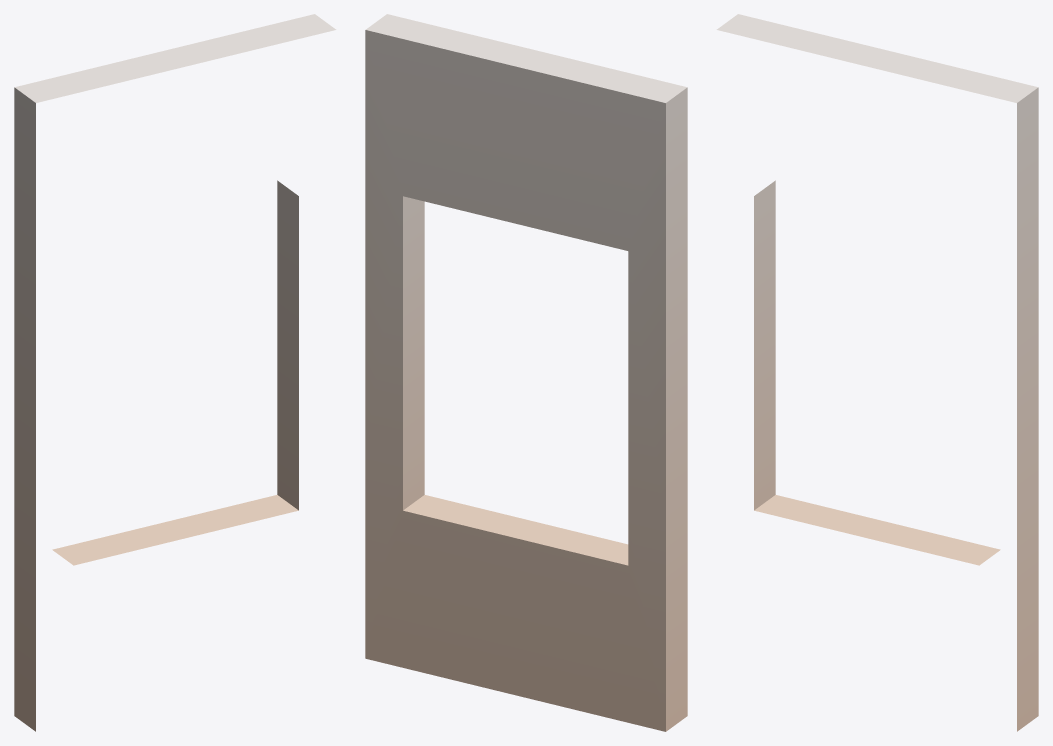
File: wall-modular-panelled-bakery-window-small-b.glb
The picture shows the model from 3 angles, left to right: view 1: azimuth 30°, elevation 25°; view 2: azimuth 150°, elevation 25°; view 3: azimuth 330°, elevation 25°; orthographic projection.
Parts seen in each view (by area): view 1: wall_modular_panelled_bakery_window_small_B; view 2: wall_modular_panelled_bakery_window_small_B; view 3: wall_modular_panelled_bakery_window_small_B.
Part boxes in pixels (x1,y1,x2,y2): wall_modular_panelled_bakery_window_small_B: (14,14,336,731); wall_modular_panelled_bakery_window_small_B: (365,14,687,731); wall_modular_panelled_bakery_window_small_B: (716,14,1038,731).
Bounding box in the file's own units: 2 × 4 × 0.25.
Materials: 1 (1 with a texture image).
